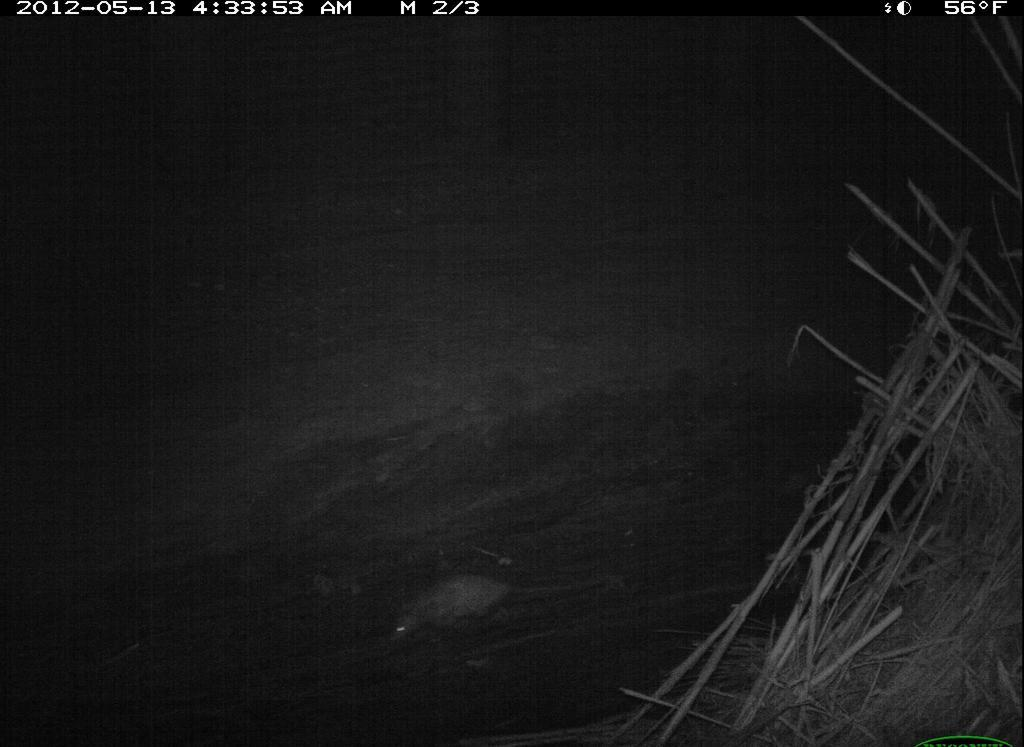opossum: (342, 546, 588, 665)
